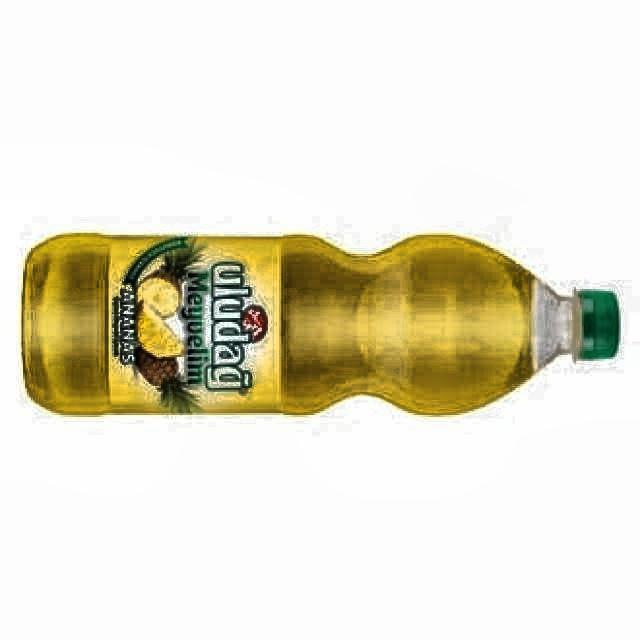plastic: (22, 234, 619, 414)
